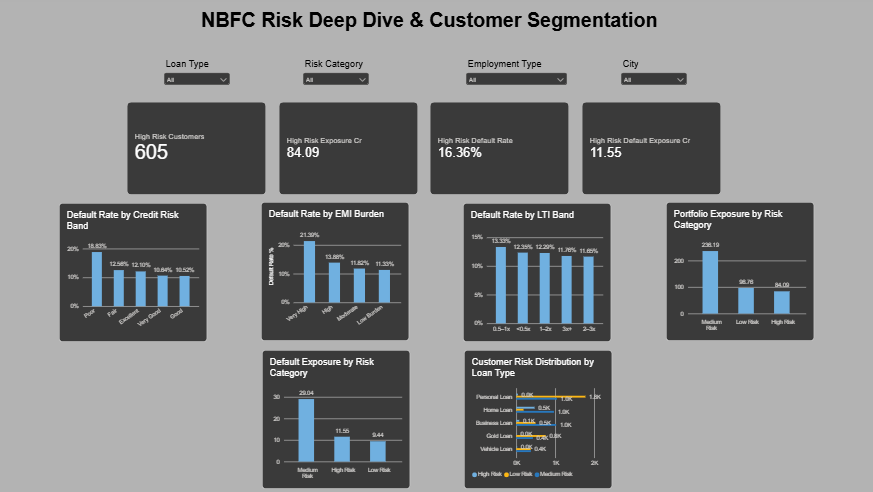

This screenshot's page, from the dashboard's own definition file:
{"tool":"powerbi","page":{"name":"Page 2","canvas":[1920,1080],"ordinal":1},"visuals":[{"type":"cardVisual","fields":{"Data":["nbfc_risk_analytics city_risk_summary.High Risk Customers"]},"box":[286.8,228.1,300,200],"z":0},{"type":"cardVisual","fields":{"Data":["nbfc_risk_analytics city_risk_summary.High Risk Exposure Cr"]},"box":[614.6,228,300,200],"z":1000},{"type":"cardVisual","fields":{"Data":["nbfc_risk_analytics city_risk_summary.High Risk Default Rate"]},"box":[942.4,228.2,300,200],"z":2000},{"type":"cardVisual","fields":{"Data":["nbfc_risk_analytics city_risk_summary.High Risk Default Exposure Cr","nbfc_risk_analytics city_risk_summary.High Risk Default Exposure Cr"]},"box":[1270.2,228.4,300,200],"z":3000},{"type":"clusteredColumnChart","title":"Default Rate by EMI Burden","fields":{"Category":["nbfc_risk_analytics loan_portfolio.EMI Burden"],"Y":["nbfc_risk_analytics city_risk_summary.Default Rate %"]},"box":[577.1,445.9,320,300],"z":5000},{"type":"clusteredColumnChart","title":"Default Rate by LTI Band","fields":{"Category":["nbfc_risk_analytics loan_portfolio.LTI Band"],"Y":["nbfc_risk_analytics city_risk_summary.Default Rate %"]},"box":[1014,446.2,320,300],"z":6000},{"type":"clusteredColumnChart","title":"Portfolio Exposure by Risk Category","fields":{"Category":["nbfc_risk_analytics customer_risk_scores.customer_risk_category"],"Y":["nbfc_risk_analytics city_risk_summary.Portfolio Exposure Cr"]},"box":[1450.8,445.9,320,300],"z":7000},{"type":"clusteredColumnChart","title":"Default Exposure by Risk Category","fields":{"Category":["nbfc_risk_analytics customer_risk_scores.customer_risk_category"],"Y":["nbfc_risk_analytics city_risk_summary.Default Exposure Cr"]},"box":[578.8,765.4,320,300],"z":9000},{"type":"clusteredBarChart","title":"Customer Risk Distribution by Loan Type","fields":{"Category":["nbfc_risk_analytics product_risk_summary.loan_type"],"Series":["nbfc_risk_analytics customer_risk_scores.customer_risk_category"],"Y":["CountNonNull(nbfc_risk_analytics customer_risk_scores.customer_id)"]},"box":[1015.6,765.4,320,300],"z":10000},{"type":"clusteredColumnChart","title":"Default Rate by Credit Risk Band","fields":{"Category":["nbfc_risk_analytics customer_risk_scores.Credit Risk Band"],"Y":["nbfc_risk_analytics city_risk_summary.Default Rate %"]},"box":[140.3,447,320,300],"z":14000},{"type":"textbox","box":[423.8,28.6,1033.3,57.1],"z":15000},{"type":"slicer","fields":{"Values":["nbfc_risk_analytics customer_risk_scores.customer_risk_category"]},"box":[663.8,136.6,151.2,60.5],"z":16000},{"type":"slicer","fields":{"Values":["nbfc_risk_analytics employment_risk_summary.employment_type"]},"box":[1015.9,136.6,226.8,60.5],"z":17000},{"type":"slicer","fields":{"Values":["nbfc_risk_analytics city_risk_summary.city"]},"box":[1350.7,136.6,151.2,60.5],"z":18000},{"type":"slicer","fields":{"Values":["nbfc_risk_analytics customer_risk_scores.loan_type"]},"box":[363.6,136.6,151.2,60.5],"z":19000}]}

Visuals, with their boxes in screenshot pixels (x1, y1, x2, y2), scaled from the page's 1920x1080 canvas onto the 873x492 screenshot:
cardVisual - nbfc_risk_analytics city_risk_summary.High Risk Customers: Rect(130, 104, 267, 195)
cardVisual - nbfc_risk_analytics city_risk_summary.High Risk Exposure Cr: Rect(279, 104, 416, 195)
cardVisual - nbfc_risk_analytics city_risk_summary.High Risk Default Rate: Rect(428, 104, 565, 195)
cardVisual - nbfc_risk_analytics city_risk_summary.High Risk Default Exposure Cr x nbfc_risk_analytics city_risk_summary.High Risk Default Exposure Cr: Rect(578, 104, 714, 195)
"Default Rate by EMI Burden" clusteredColumnChart: Rect(262, 203, 408, 340)
"Default Rate by LTI Band" clusteredColumnChart: Rect(461, 203, 607, 340)
"Portfolio Exposure by Risk Category" clusteredColumnChart: Rect(660, 203, 805, 340)
"Default Exposure by Risk Category" clusteredColumnChart: Rect(263, 349, 409, 485)
"Customer Risk Distribution by Loan Type" clusteredBarChart: Rect(462, 349, 607, 485)
"Default Rate by Credit Risk Band" clusteredColumnChart: Rect(64, 204, 209, 340)
textbox: Rect(193, 13, 663, 39)
slicer - nbfc_risk_analytics customer_risk_scores.customer_risk_category: Rect(302, 62, 371, 90)
slicer - nbfc_risk_analytics employment_risk_summary.employment_type: Rect(462, 62, 565, 90)
slicer - nbfc_risk_analytics city_risk_summary.city: Rect(614, 62, 683, 90)
slicer - nbfc_risk_analytics customer_risk_scores.loan_type: Rect(165, 62, 234, 90)
